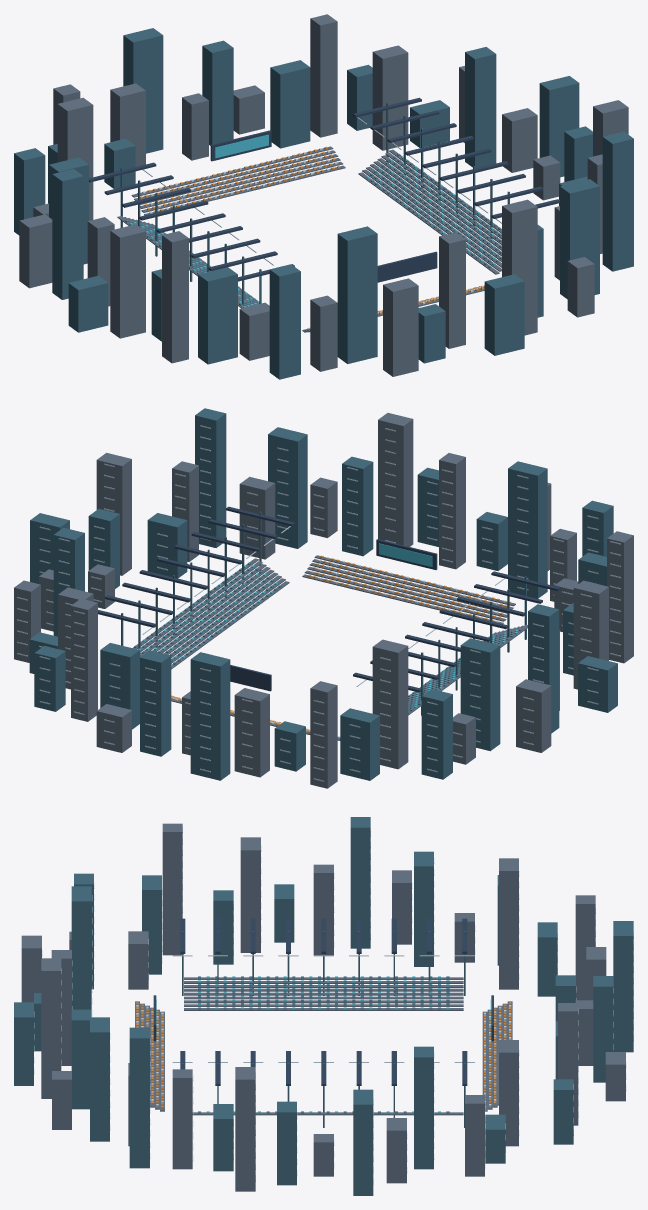
Rendered from skyline.glb.
3 renders of one model, top to bottom at view 1: azimuth 30°, elevation 25°; view 2: azimuth 150°, elevation 25°; view 3: azimuth 270°, elevation 25°, orthographic.
Parts seen in each view (by area): view 1: skyline_original_1, skyline_original_6, skyline_original_0, skyline_original_2, skyline_original_4, skyline_original_3, skyline_original_5; view 2: skyline_original_1, skyline_original_6, skyline_original_0, skyline_original_7, skyline_original_2, skyline_original_4, skyline_original_3, skyline_original_5; view 3: skyline_original_6, skyline_original_1, skyline_original_0, skyline_original_7, skyline_original_2, skyline_original_3, skyline_original_4, skyline_original_5.
Boxes of the visible parts, <box> form: skyline_original_1: <box>14,28,633,379</box>; skyline_original_6: <box>19,14,628,376</box>; skyline_original_0: <box>89,97,559,282</box>; skyline_original_2: <box>125,153,501,306</box>; skyline_original_4: <box>129,134,495,307</box>; skyline_original_3: <box>137,146,484,314</box>; skyline_original_5: <box>142,148,484,328</box>; skyline_original_1: <box>29,408,617,780</box>; skyline_original_6: <box>14,413,633,788</box>; skyline_original_0: <box>98,506,560,692</box>; skyline_original_7: <box>17,425,620,781</box>; skyline_original_2: <box>134,562,522,713</box>; skyline_original_4: <box>138,543,517,708</box>; skyline_original_3: <box>171,555,510,733</box>; skyline_original_5: <box>171,557,505,737</box>; skyline_original_6: <box>21,823,625,1191</box>; skyline_original_1: <box>14,817,633,1195</box>; skyline_original_0: <box>153,918,493,1085</box>; skyline_original_7: <box>34,827,633,1184</box>; skyline_original_2: <box>198,976,449,1113</box>; skyline_original_3: <box>136,1002,511,1108</box>; skyline_original_4: <box>156,976,490,1113</box>; skyline_original_5: <box>136,1005,511,1106</box>.
Size of the model in its own units: 252 by 57.2 by 246.
